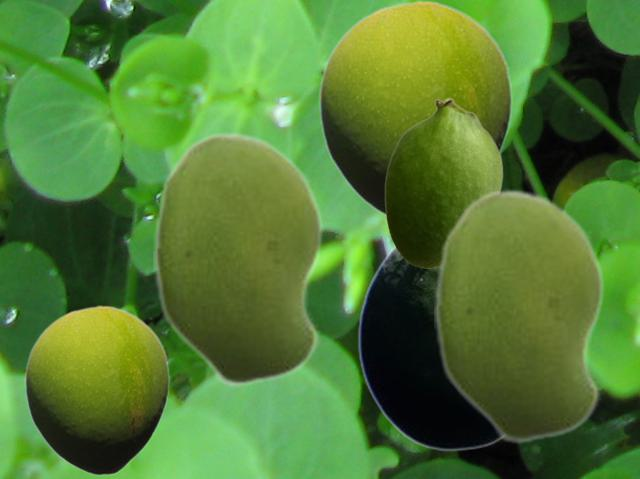green_mango: (153, 131, 323, 387), (434, 188, 604, 444), (318, 0, 512, 216), (357, 246, 501, 450), (24, 305, 169, 475), (384, 97, 502, 267)
